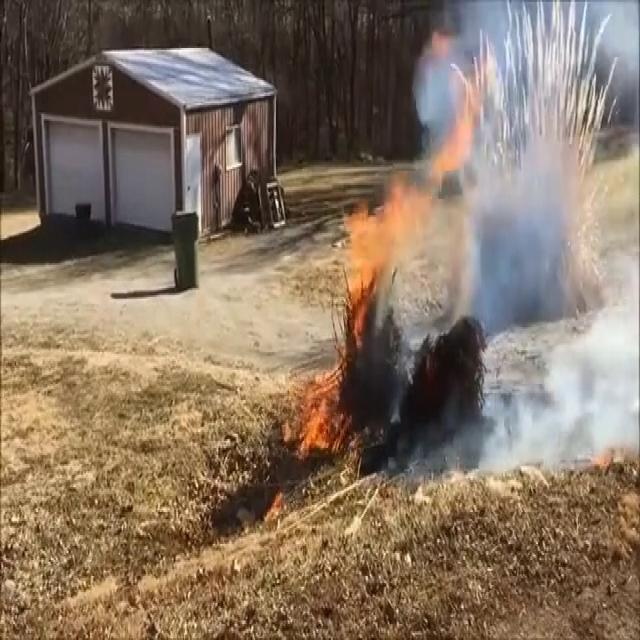Fire: (344, 170, 416, 342), (294, 346, 346, 464)
Smoke: (366, 4, 640, 482)
